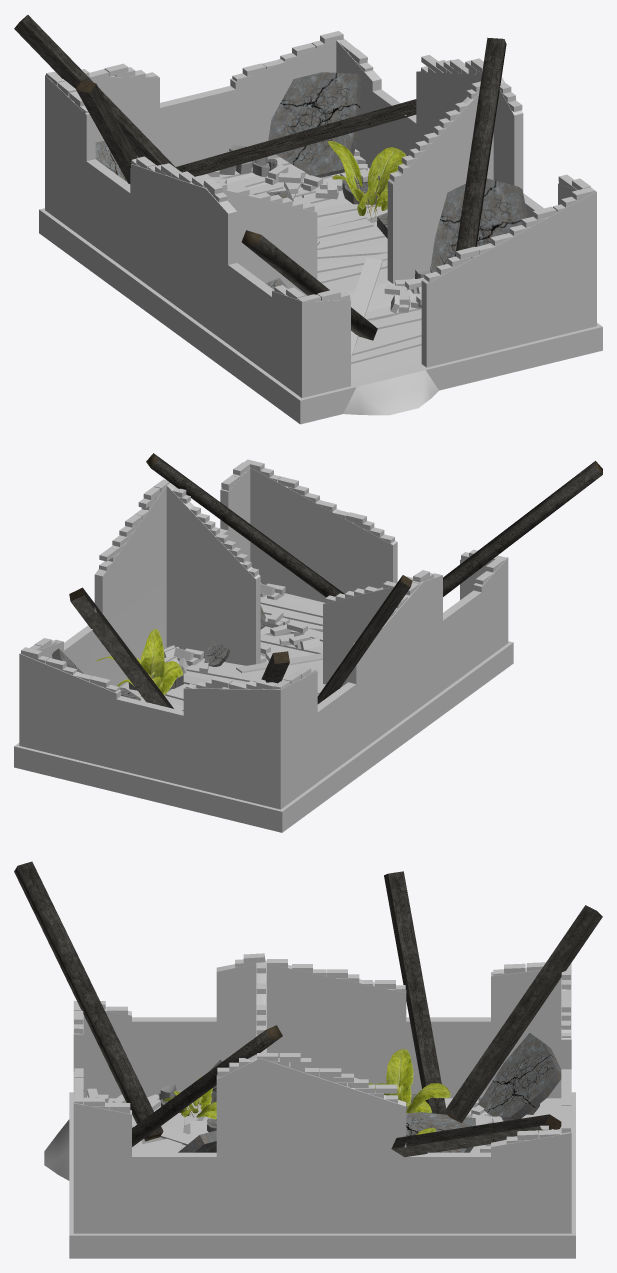
The model's file is ruins.fbx.
3 views of the same model, one above another, from view 1: azimuth 30°, elevation 25°; view 2: azimuth 150°, elevation 25°; view 3: azimuth 270°, elevation 25° (orthographic). The views are drawn at different scales.
Parts seen in each view (by area): view 1: build, concrete_fragment012, balka001, concrete_fragment015, balka002, balka003, fern_frono002, balka004, balka005, Box014, Box006, Box009 (+2 smaller); view 2: build, balka001, balka004, balka002, balka005, fern_frono002, balka003, Box001; view 3: build, balka004, balka003, balka005, concrete_fragment014, balka002, balka001, fern_frono001, concrete_fragment010, fern_frono, concrete_fragment015.
Part boxes in pixels (x1,y1,x2,y2): build: (39,38,602,424); concrete_fragment012: (268,72,361,177); balka001: (455,37,506,256); concrete_fragment015: (430,178,527,272); balka002: (176,99,416,176); balka003: (14,15,177,169); fern_frono002: (328,140,405,219); balka004: (241,230,377,340); balka005: (76,79,137,183); Box014: (351,257,382,357); Box006: (317,245,387,258); Box009: (352,327,421,355); build: (14,467,513,832); balka001: (146,453,344,597); balka004: (443,461,602,596); balka002: (69,587,173,708); balka005: (317,575,412,703); fern_frono002: (96,629,182,696); balka003: (261,651,289,683); Box001: (186,665,322,694); build: (44,960,575,1258); balka004: (14,861,163,1141); balka003: (444,905,602,1122); balka005: (384,871,446,1114); concrete_fragment014: (477,1033,561,1121); balka002: (391,1114,561,1157); balka001: (132,1025,282,1146); fern_frono001: (368,1049,450,1113); concrete_fragment010: (406,1112,475,1152); fern_frono: (163,1076,216,1119); concrete_fragment015: (178,1130,216,1152).
Bounding box in the file's own units: 538 × 299 × 695.
